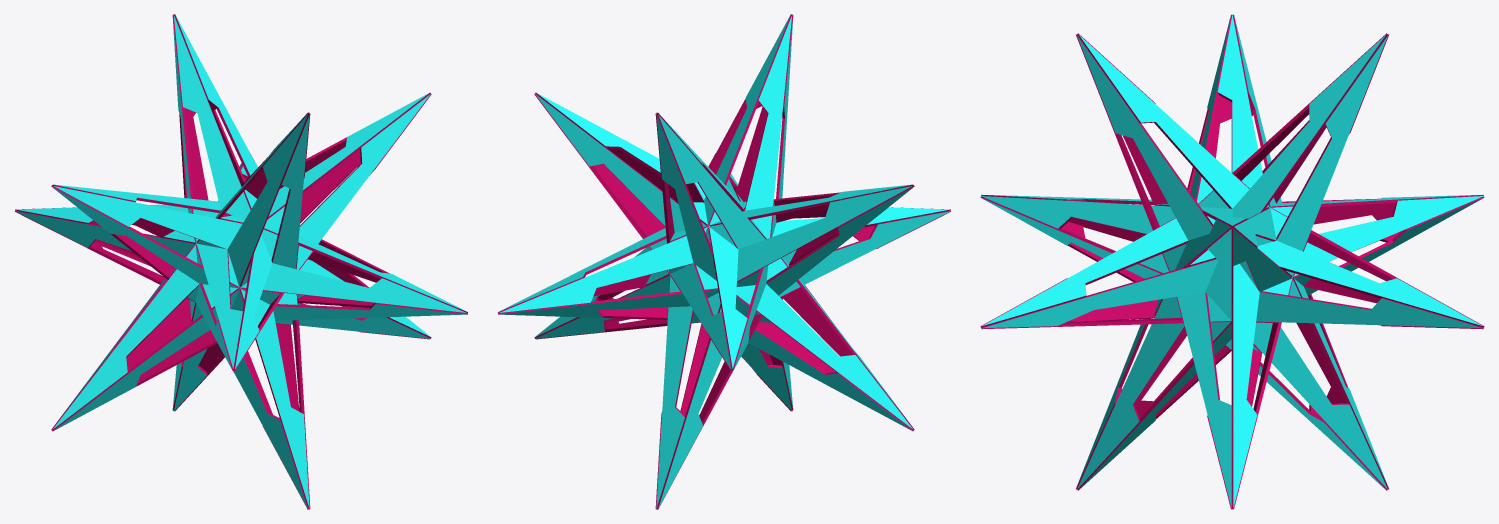
File: MedialTriambicIcosahedronS.glb
3 views of the same model, side by side, from view 1: azimuth 30°, elevation 25°; view 2: azimuth 150°, elevation 25°; view 3: azimuth 270°, elevation 25° (orthographic). The views are drawn at different scales.
Parts seen in each view (by area): view 1: root; view 2: root; view 3: root.
Part boxes in pixels (left/top/right/bottom): root: left=15, top=14, right=467, bottom=509; root: left=498, top=14, right=950, bottom=509; root: left=980, top=14, right=1484, bottom=509.
Bounding box in the file's own units: 7.87 × 7.87 × 7.87.
